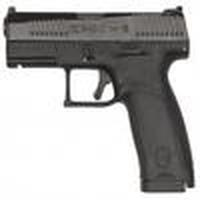gun: (2, 1, 200, 177)
